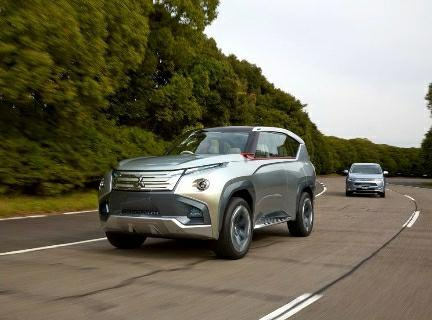car: (91, 122, 325, 258), (339, 158, 393, 201)
